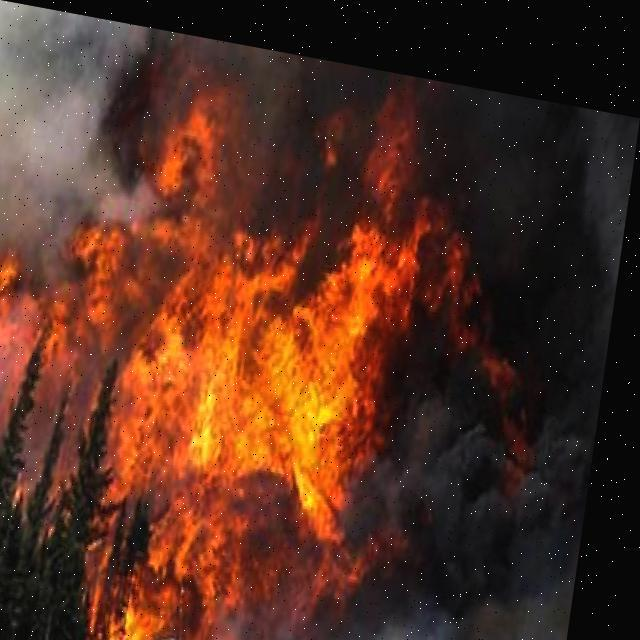Fire: (0, 59, 520, 639)
